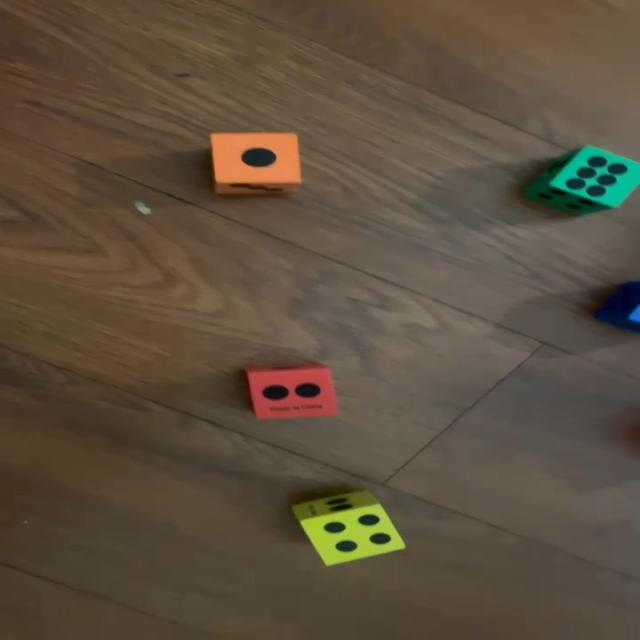blue_block: (600, 280, 640, 334)
red_block: (242, 361, 340, 418)
